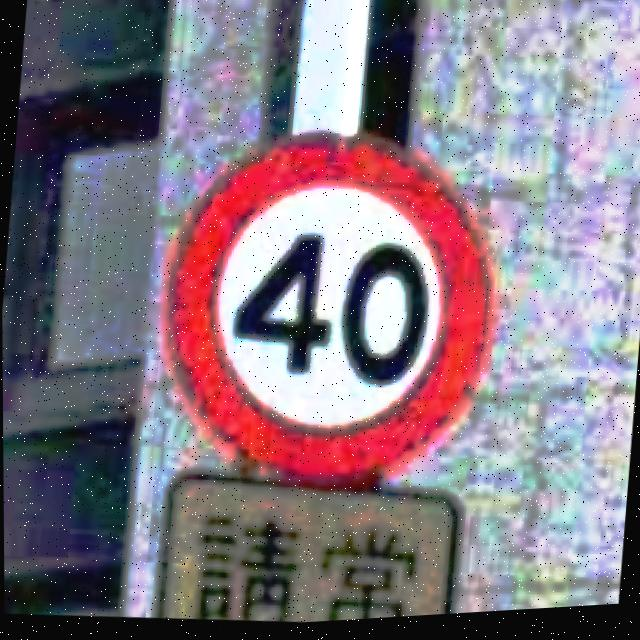max40: (142, 107, 511, 511)
